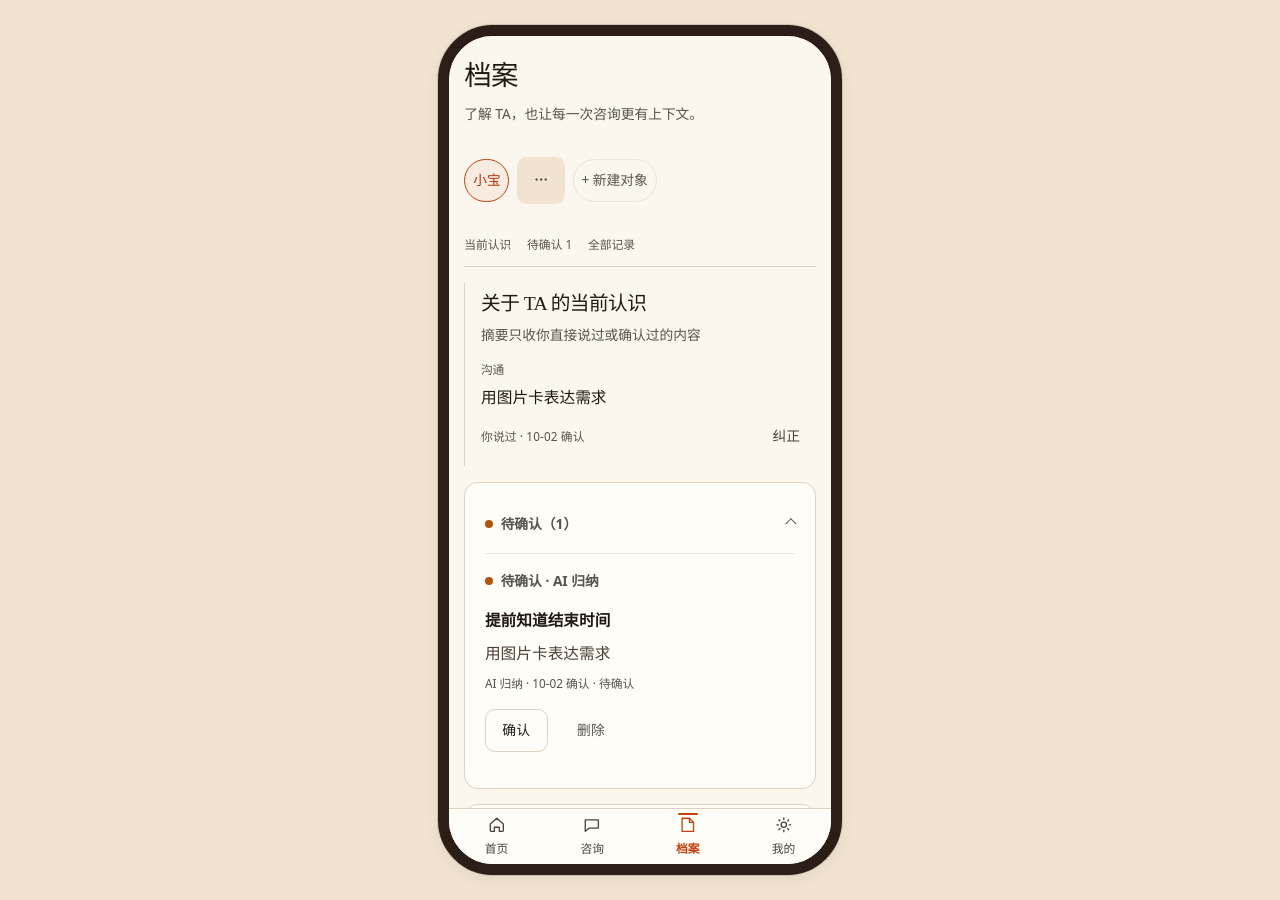
Test: 档案页 · 候选条目操作 › P0 删除候选须二次确认；取消不调删除端点
Expected: the text "提前知道结束时间" is shown, [485,609,610,631]
Click the button "删除". click: (591, 731)
box: [560,709,622,752]
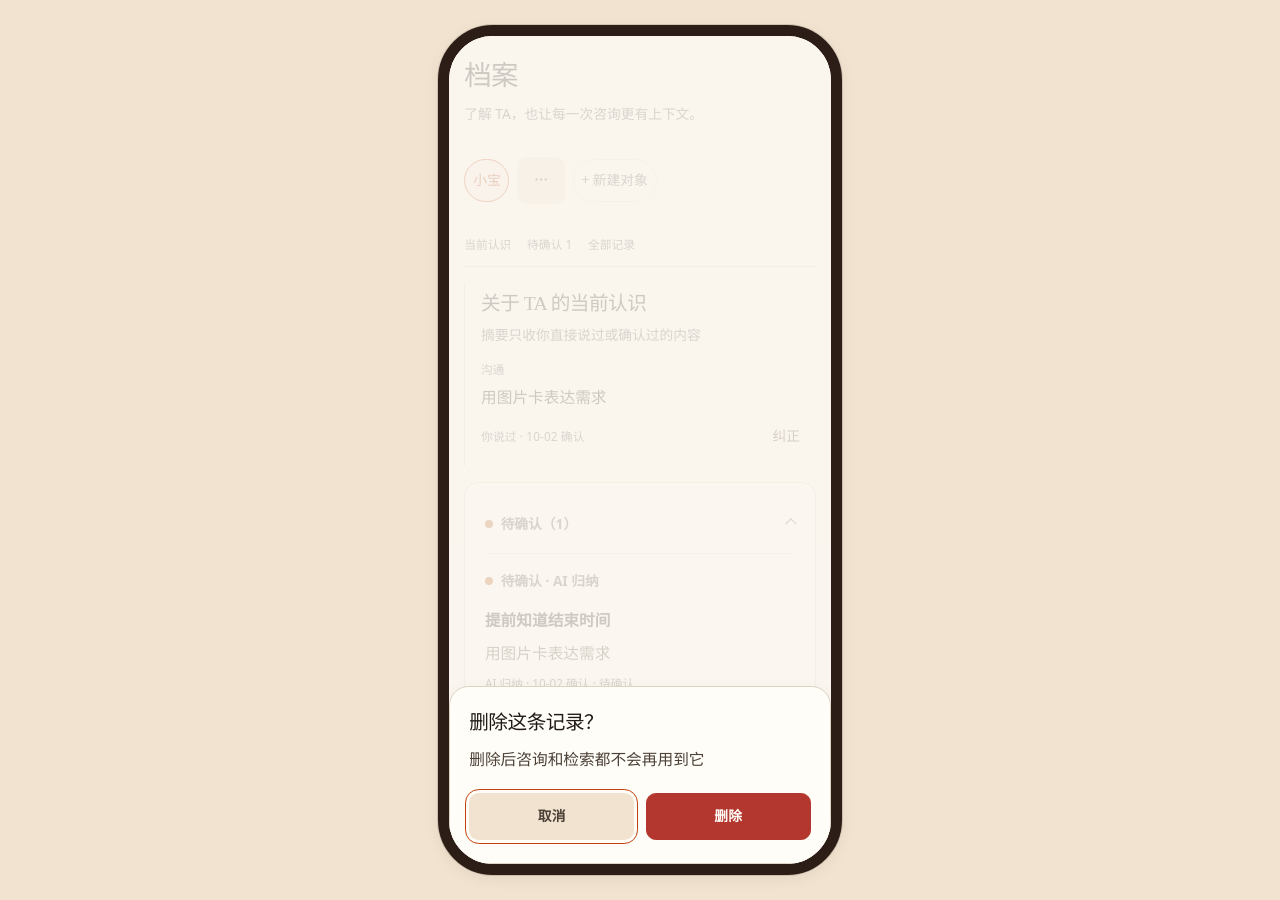
Expected: the heading "删除这条记录？" is shown, [469,712,603,733]
Expected: the text "删除后咨询和检索都不会再用到它" is shown, [469,748,704,770]
Click the button "取消". click: (552, 816)
box: [469,792,634,840]
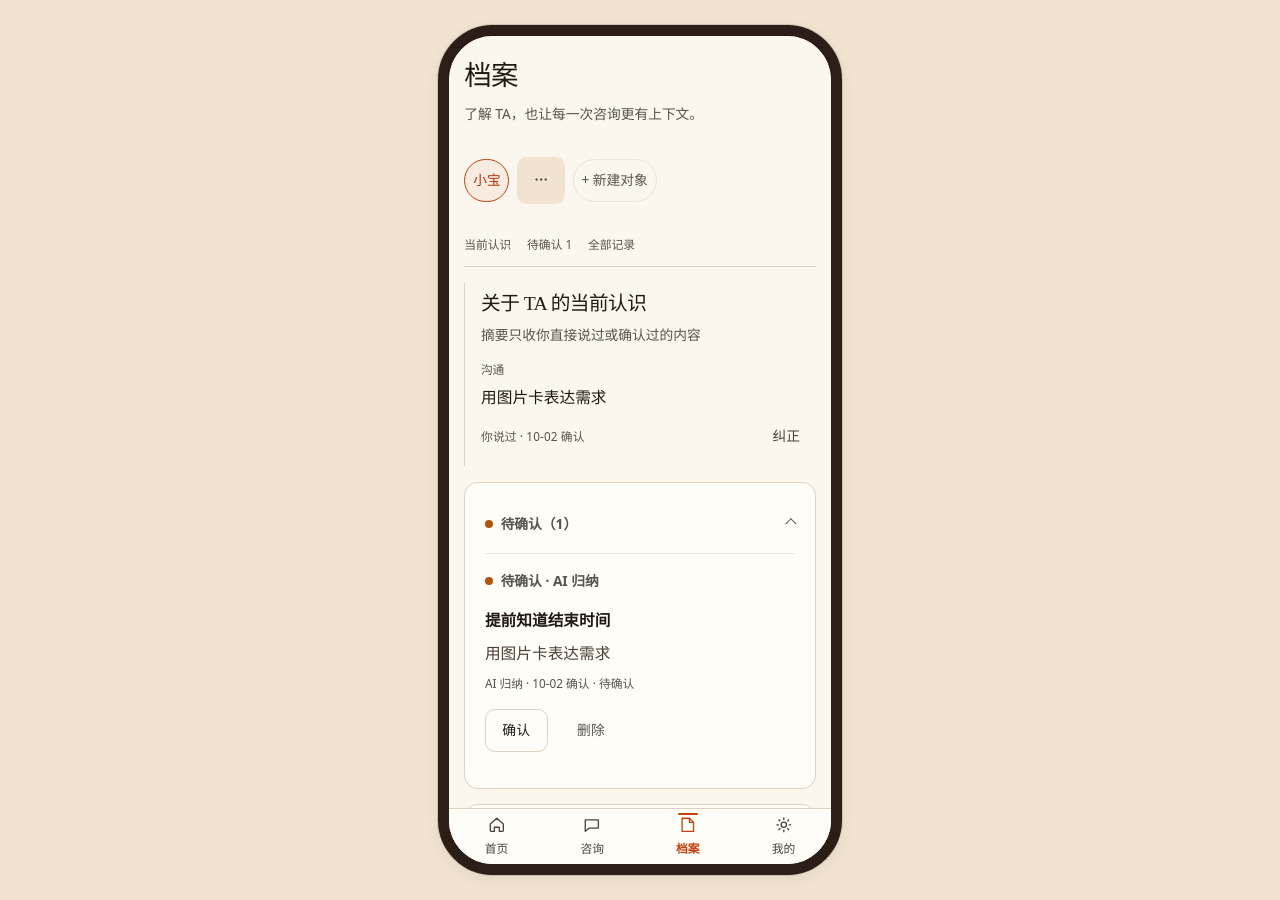
Expected: the dialog is gone
